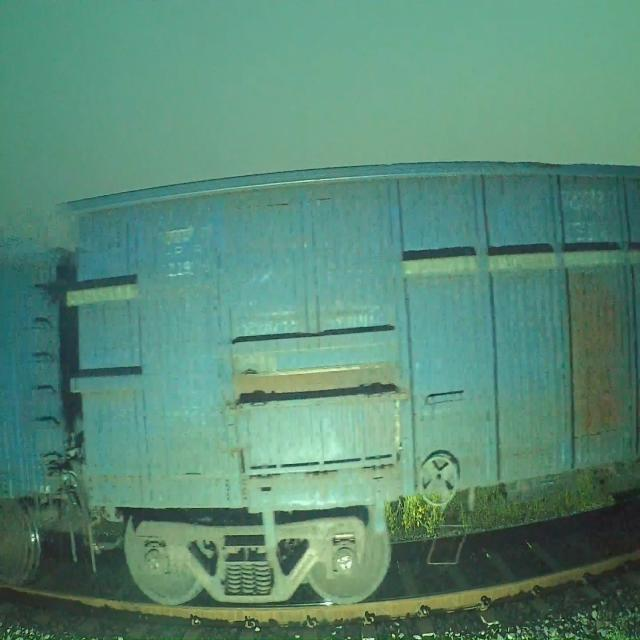WAgon-uic: (59, 158, 640, 612), (0, 240, 141, 592)
